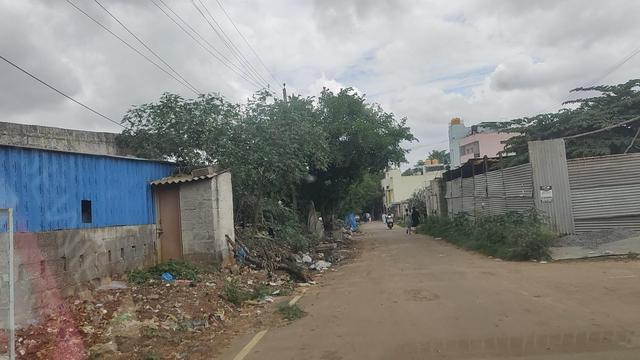RoadDamages: (399, 279, 442, 307)
